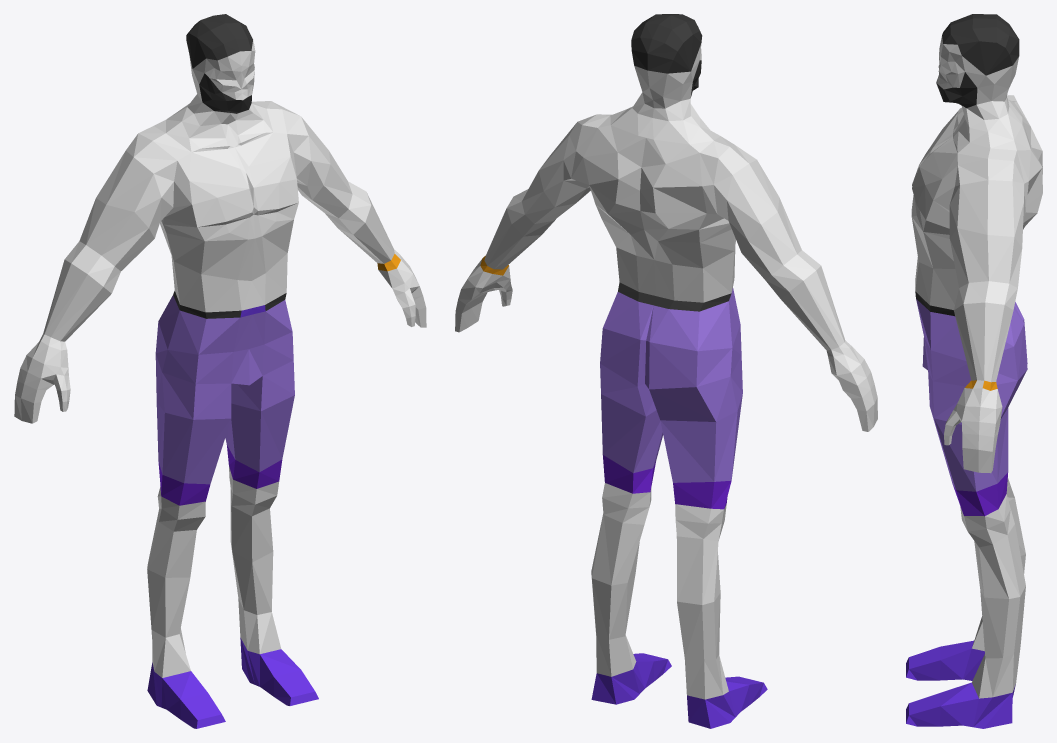
File: macho.fbx
The picture shows the model from 3 angles, left to right: view 1: azimuth 30°, elevation 25°; view 2: azimuth 150°, elevation 25°; view 3: azimuth 270°, elevation 25°; orthographic projection. The views are drawn at different scales.
Visible parts, largest first — view 1: human; view 2: human; view 3: human.
Boxes of the visible parts, left/top/right/bottom form: human: left=14, top=14, right=426, bottom=728; human: left=455, top=14, right=877, bottom=728; human: left=906, top=14, right=1042, bottom=728.
Bounding box in the file's own units: 5148 × 8189 × 1496.
